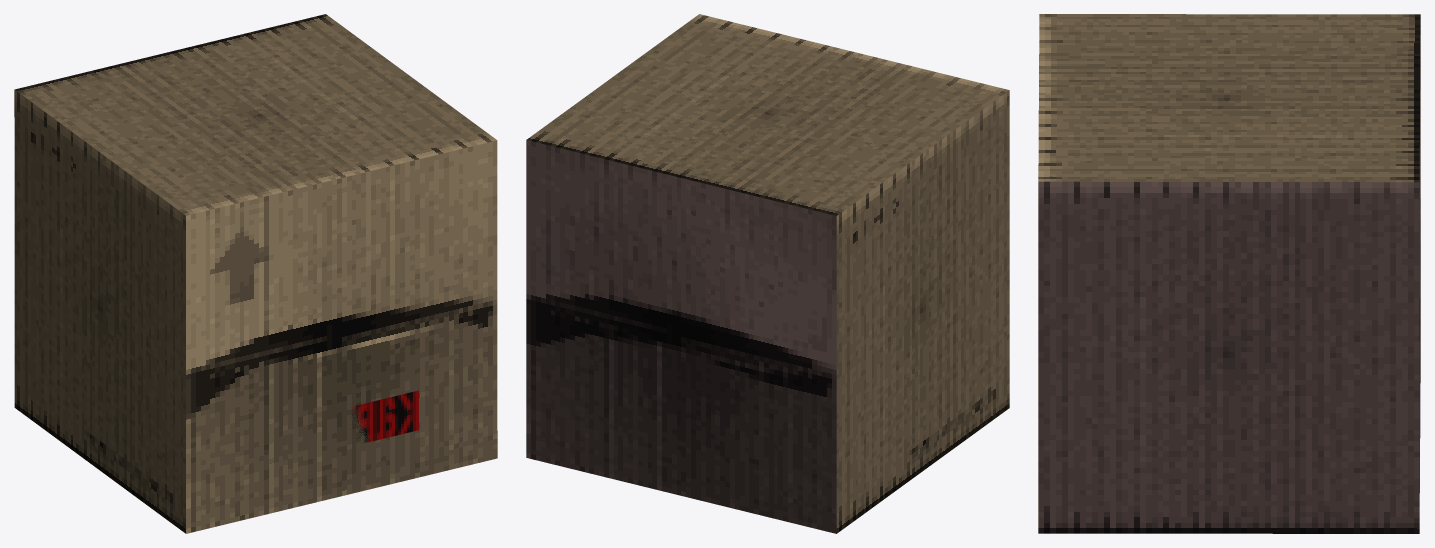
The model's file is primary_156.glb.
3 views of the same model, side by side, from view 1: azimuth 30°, elevation 25°; view 2: azimuth 150°, elevation 25°; view 3: azimuth 270°, elevation 25° (orthographic). The views are drawn at different scales.
Parts seen in each view (by area): view 1: Object; view 2: Object; view 3: Object.
Part boxes in pixels (bbox=[...]): Object: bbox=[14, 14, 497, 533]; Object: bbox=[526, 14, 1009, 533]; Object: bbox=[1038, 14, 1420, 533].
Size of the model in its own units: 1.12 by 1.09 by 1.08.
Materials: 7 (7 with a texture image).
